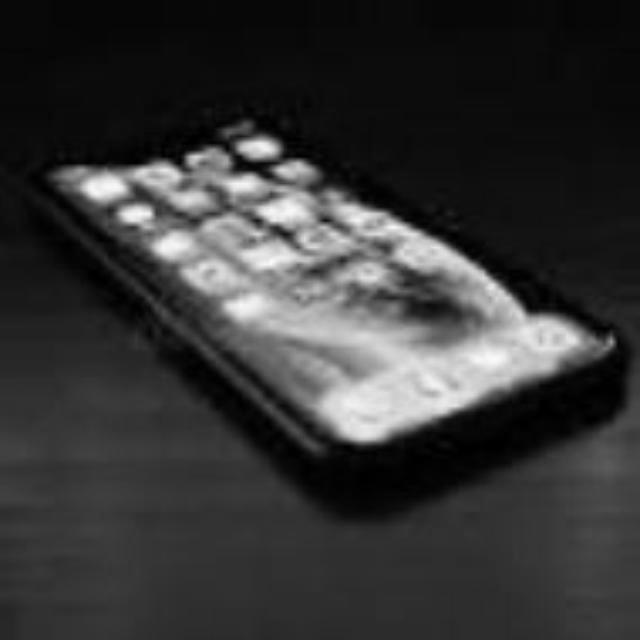fake: (0, 0, 640, 570)
